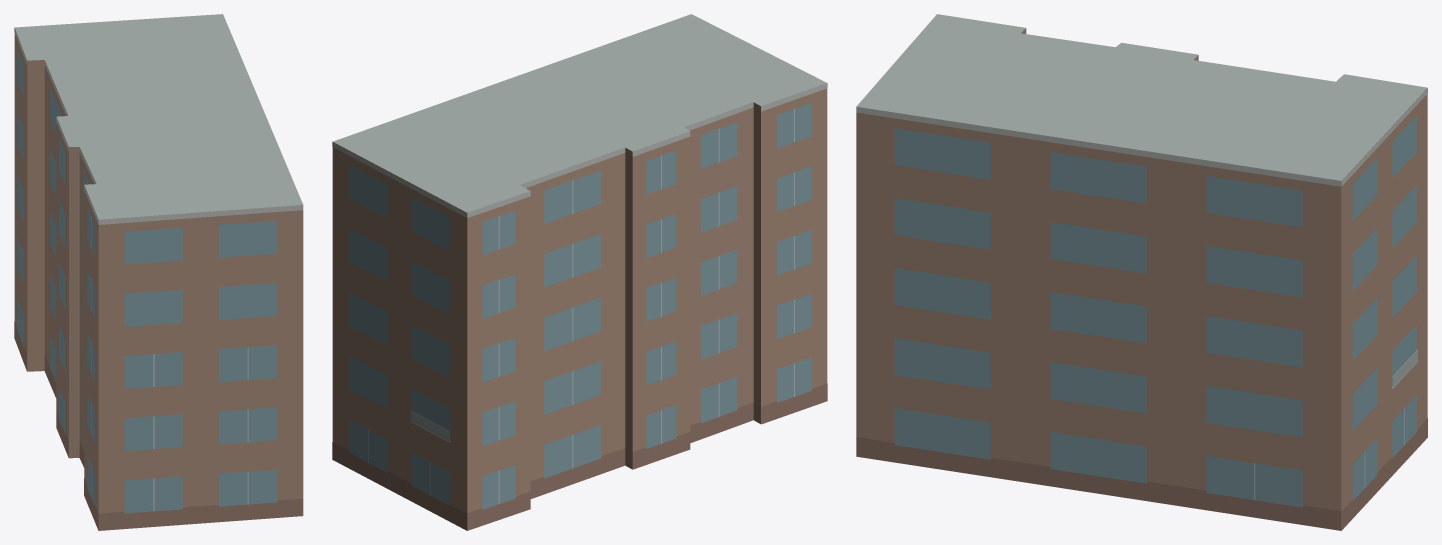
Rendered from survey-upis-32552353.glb.
The picture shows the model from 3 angles, left to right: view 1: azimuth 30°, elevation 25°; view 2: azimuth 150°, elevation 25°; view 3: azimuth 270°, elevation 25°; orthographic projection. The views are drawn at different scales.
Visible parts, largest first — view 1: survey-upis-32552353.tmp; view 2: survey-upis-32552353.tmp; view 3: survey-upis-32552353.tmp.
Part boxes in pixels (x1=…): survey-upis-32552353.tmp: x1=14, y1=14, x2=303, y2=530; survey-upis-32552353.tmp: x1=332, y1=14, x2=827, y2=530; survey-upis-32552353.tmp: x1=856, y1=14, x2=1427, y2=530.
Bounding box in the file's own units: 14.95 × 14.6 × 21.62.
